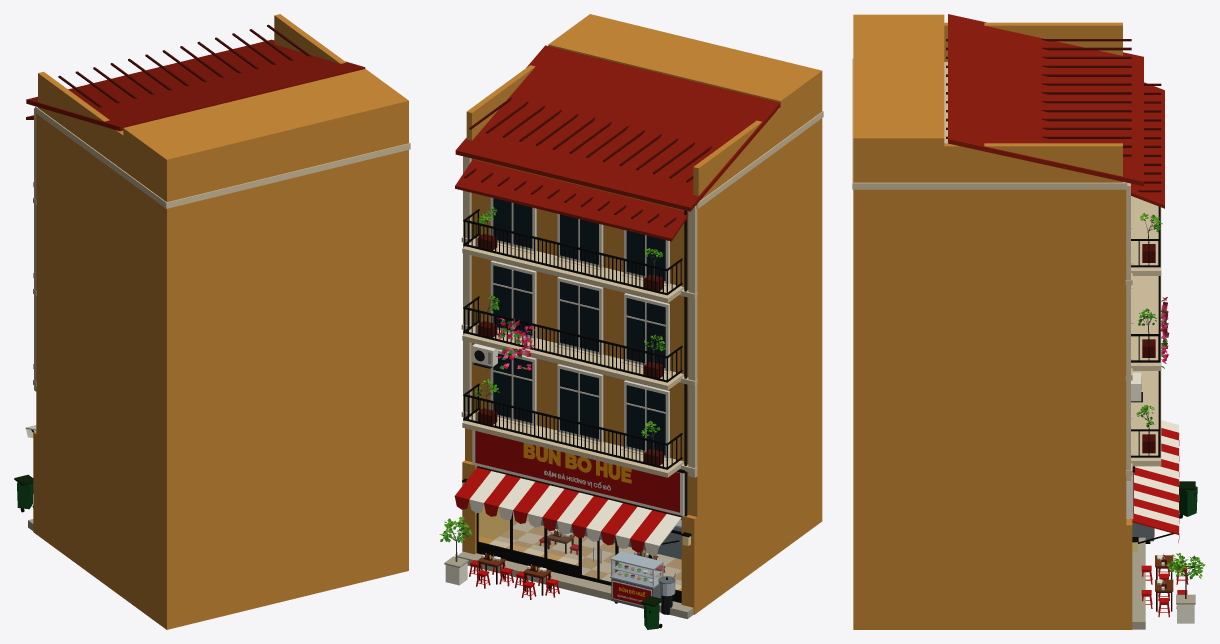
The model's file is PV_StreetShop08.fbx.
The picture shows the model from 3 angles, left to right: view 1: azimuth 30°, elevation 25°; view 2: azimuth 150°, elevation 25°; view 3: azimuth 270°, elevation 25°; orthographic projection. The views are drawn at different scales.
Parts seen in each view (by area): view 1: PV_StreetShop08_LOD0; view 2: PV_StreetShop08_LOD0; view 3: PV_StreetShop08_LOD0.
Part boxes in pixels (box(x1,y1,x2,y2)): PV_StreetShop08_LOD0: box(14, 14, 410, 629); PV_StreetShop08_LOD0: box(439, 14, 823, 629); PV_StreetShop08_LOD0: box(852, 14, 1205, 629).
Size of what is drawn, in the model's own units: 8.46 by 15.5 by 10.09.
2 materials, 1 textured.
